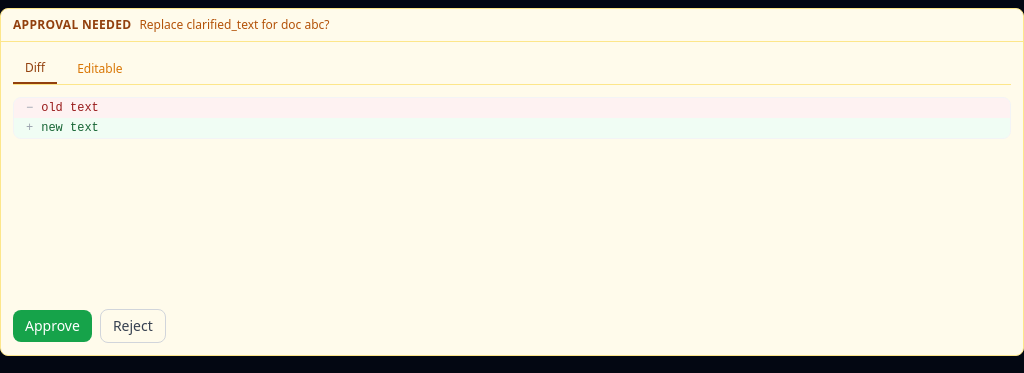
Test: ConfirmationBlock rendering › switches to editable tab when clicked
Click the button "Editable" at (100, 69), box [65, 54, 135, 84]
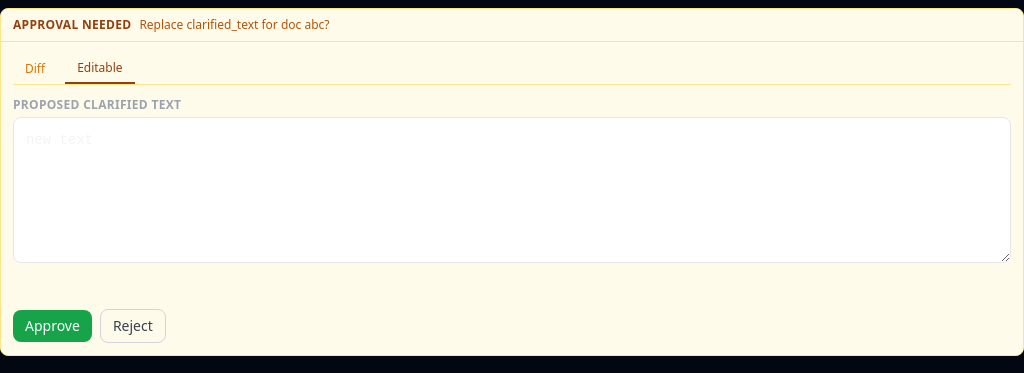
Result: the text box holds "new text" at [13, 117, 1011, 263]
